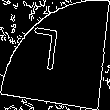L_S: (38, 28, 72, 82)
